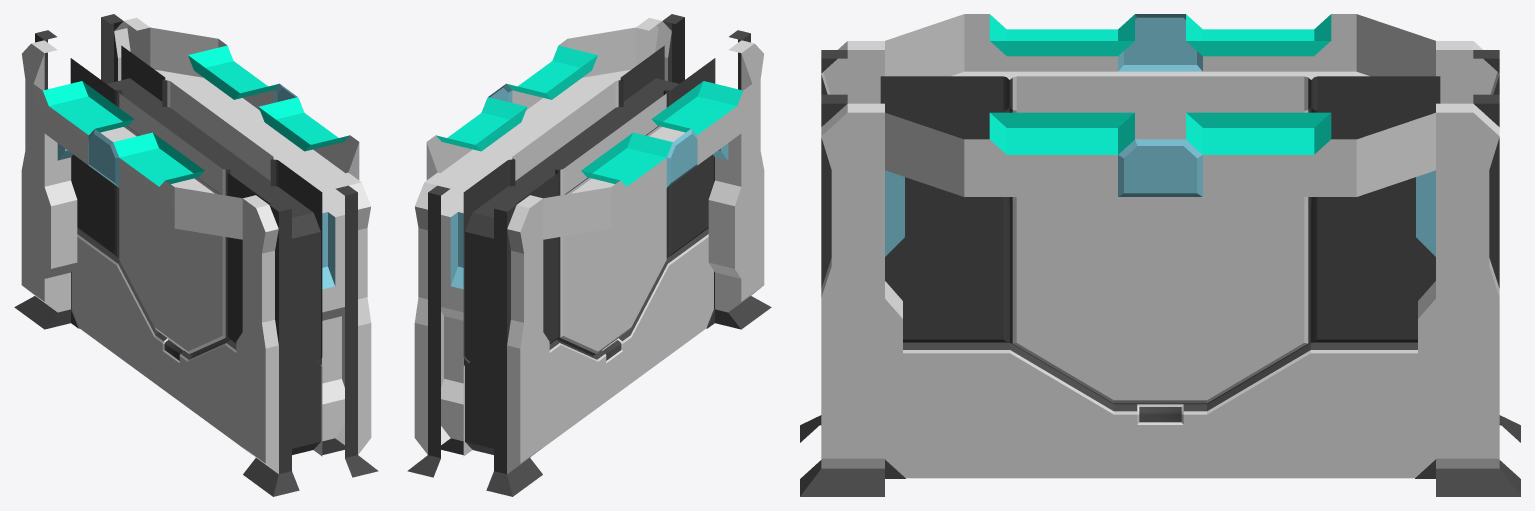
File: Door1.fbx
The picture shows the model from 3 angles, left to right: view 1: azimuth 30°, elevation 25°; view 2: azimuth 150°, elevation 25°; view 3: azimuth 270°, elevation 25°; orthographic projection. The views are drawn at different scales.
Parts seen in each view (by area): view 1: Doorway1, Door1; view 2: Doorway1, Door1; view 3: Door1, Doorway1.
Boxes of the visible parts, x1,y1,x2,y2 form: Doorway1: (14,14,378,496); Door1: (70,45,322,456); Doorway1: (407,14,771,496); Door1: (463,45,715,456); Door1: (880,76,1440,478); Doorway1: (800,14,1520,496).
Bounding box in the file's own units: 3.58 × 5 × 8.5.
